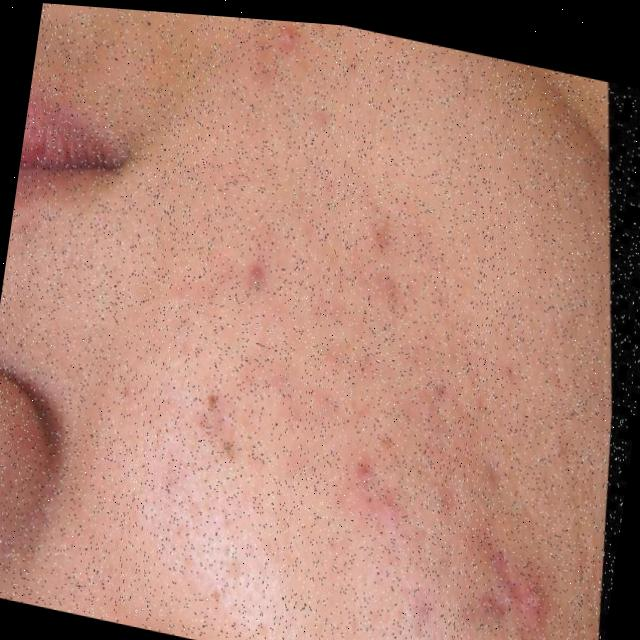Acne: (163, 25, 640, 640)
